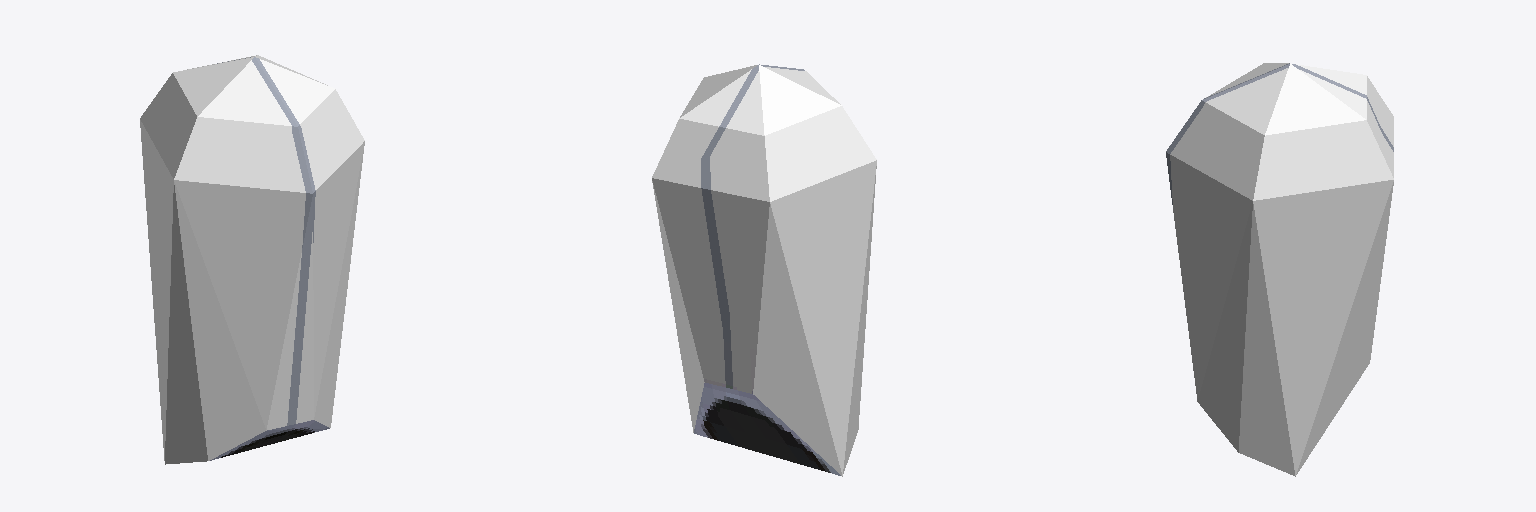
The picture shows the model from 3 angles: view 1: azimuth 30°, elevation 25°; view 2: azimuth 150°, elevation 25°; view 3: azimuth 270°, elevation 25°; orthographic projection.
Visible parts, largest first — view 1: buzzlightyRightThigh_buzzlighty.024; view 2: buzzlightyRightThigh_buzzlighty.024; view 3: buzzlightyRightThigh_buzzlighty.024.
Boxes of the visible parts, <box> form: buzzlightyRightThigh_buzzlighty.024: <box>140,55,364,464</box>; buzzlightyRightThigh_buzzlighty.024: <box>652,64,876,476</box>; buzzlightyRightThigh_buzzlighty.024: <box>1166,63,1393,476</box>.
Bounding box in the file's own units: 0.091 × 0.1768 × 0.0942.
1 materials, 1 textured.